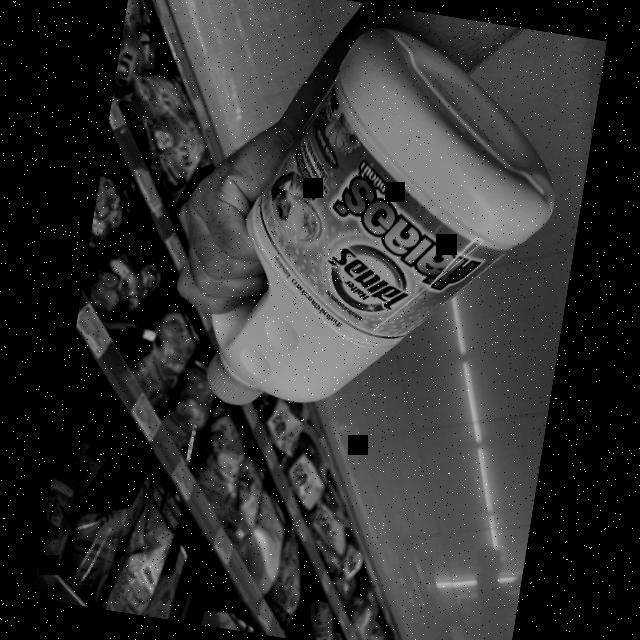chemical_plastic_bottle: (174, 0, 597, 475)
